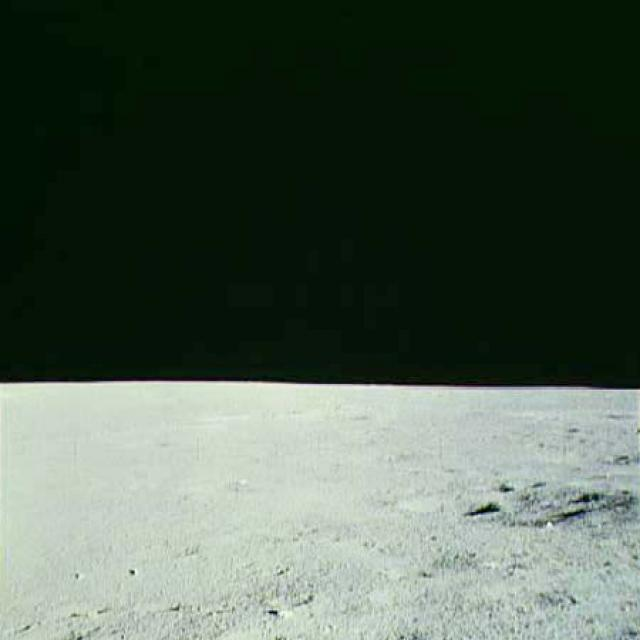crater: (394, 475, 639, 538)
